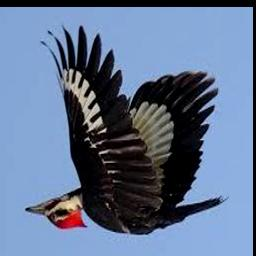Woodpecker: (26, 26, 230, 236)
